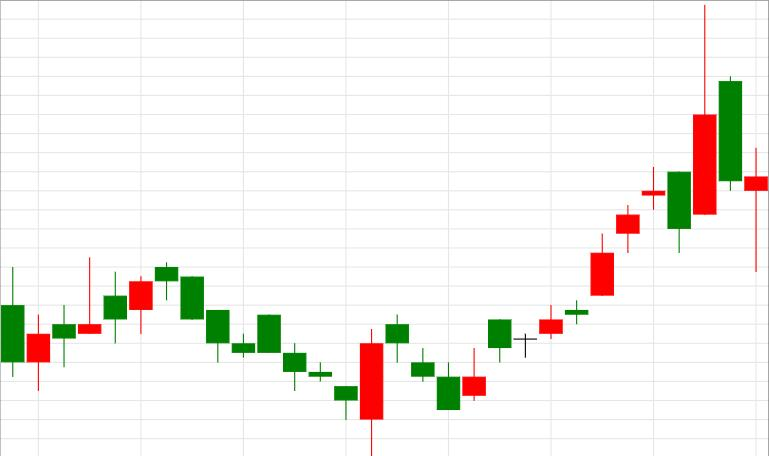bullish_engulfing_rise: (155, 261, 383, 456)
